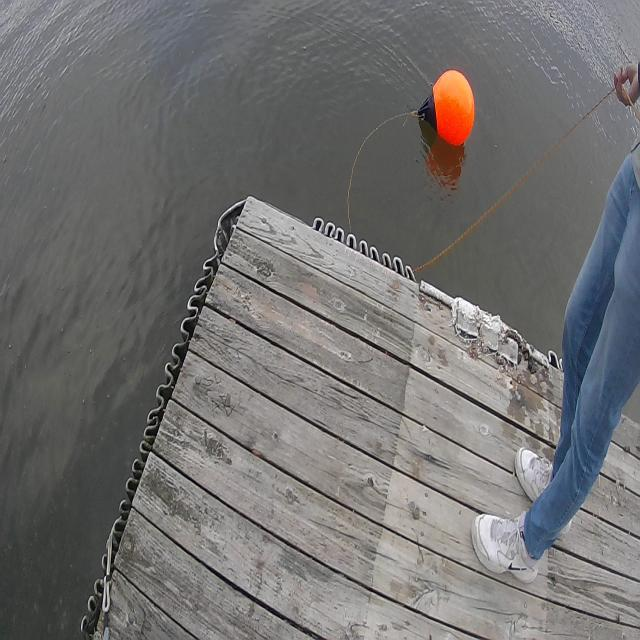Buoy: (415, 56, 483, 162)
